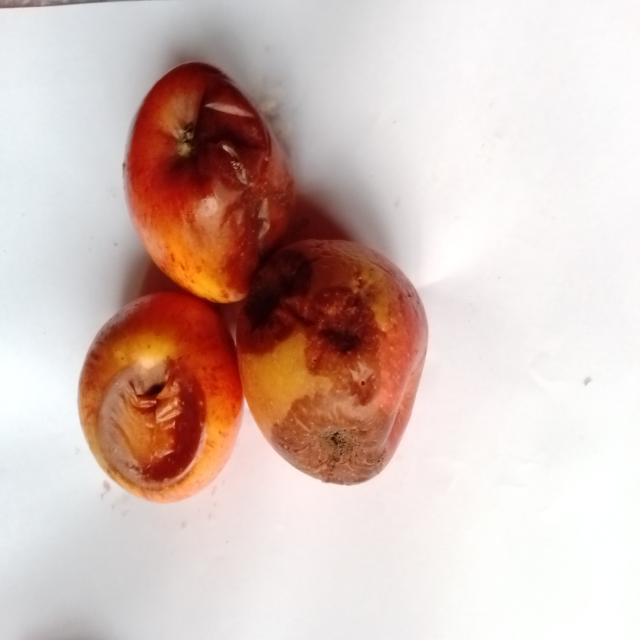apple: (237, 241, 427, 484), (125, 63, 294, 302), (79, 293, 242, 501)
